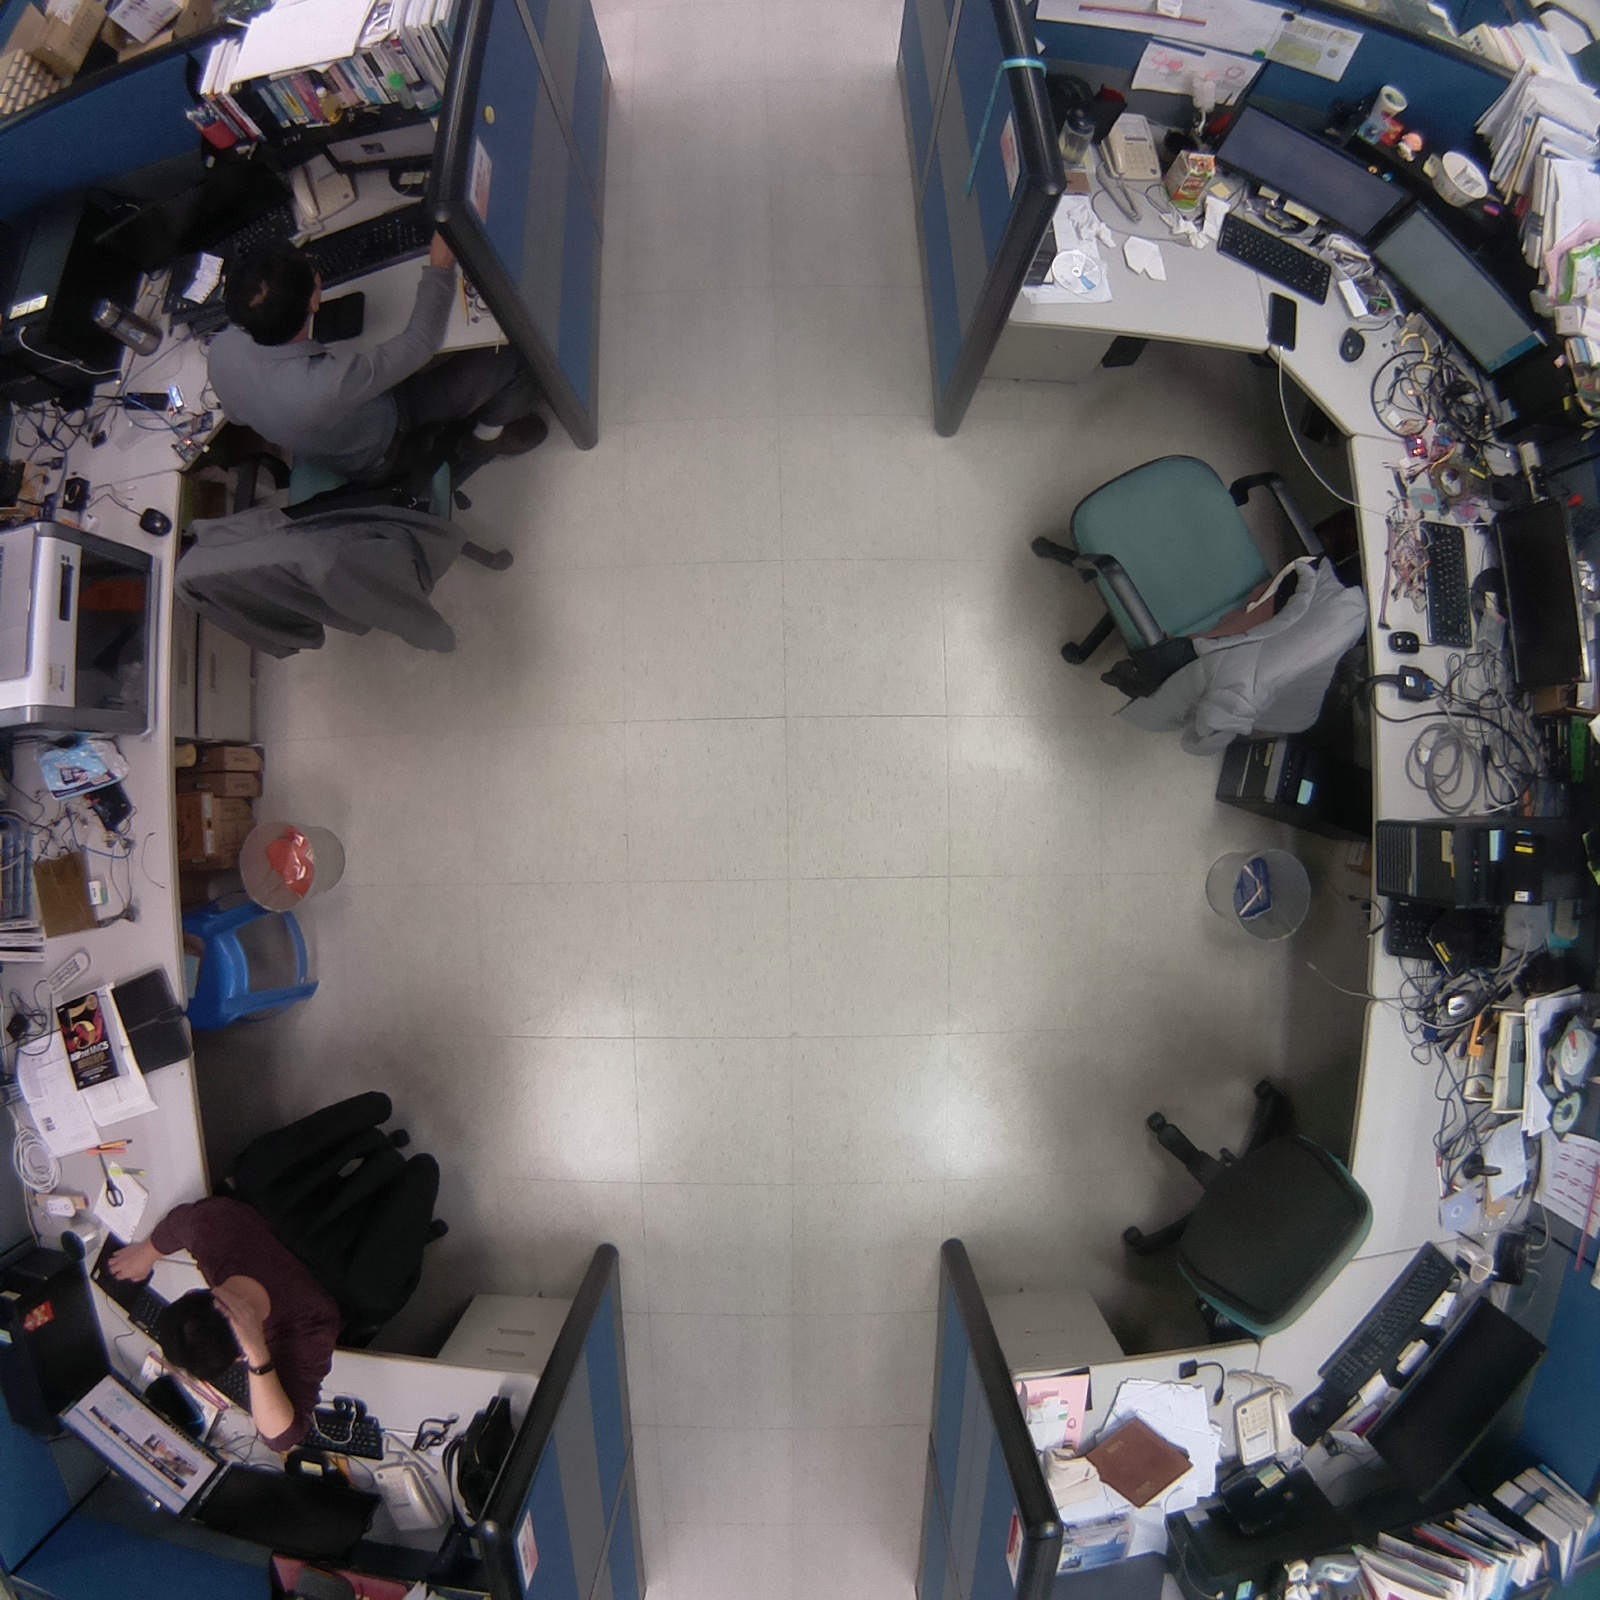chair: (999, 434, 1389, 766), (1100, 1067, 1392, 1368)
sitting: (166, 182, 570, 690), (86, 1061, 481, 1470)
